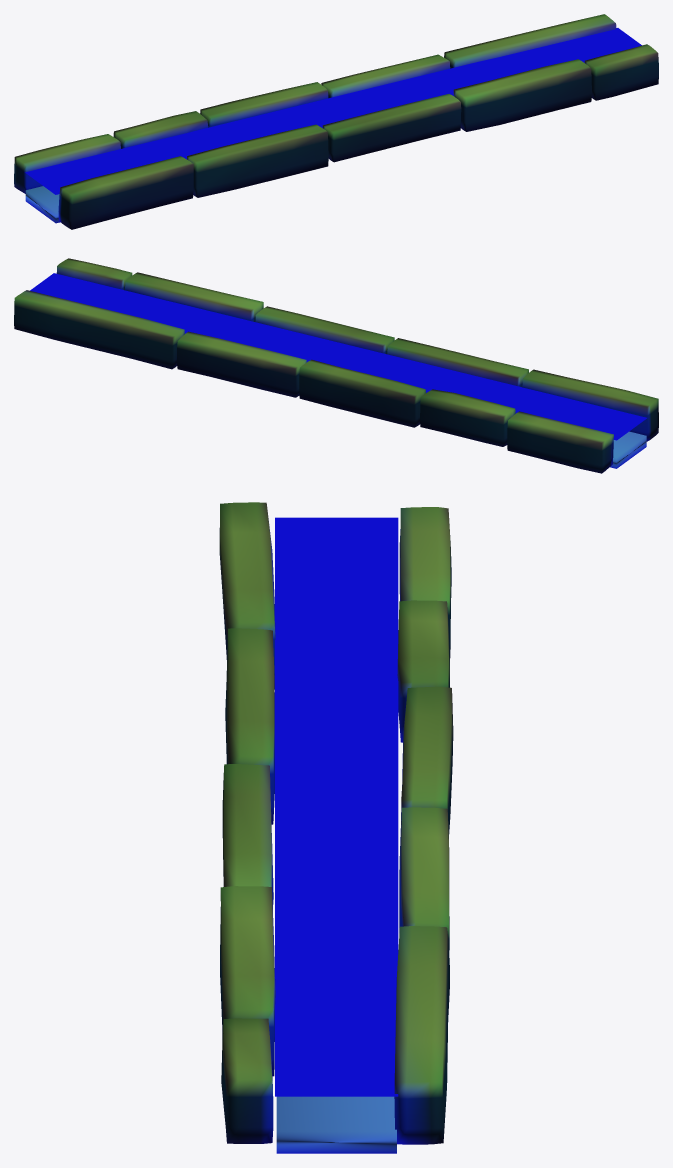
File: terrace_channel_4m.glb
3 views of the same model, one above another, from view 1: azimuth 30°, elevation 25°; view 2: azimuth 150°, elevation 25°; view 3: azimuth 270°, elevation 25° (orthographic). The views are drawn at different scales.
Visible parts, largest first — view 1: terrace_channel_4m; view 2: terrace_channel_4m; view 3: terrace_channel_4m.
Part boxes in pixels (x1,y1,x2,y2): terrace_channel_4m: (14,14,658,229); terrace_channel_4m: (14,258,658,473); terrace_channel_4m: (219,502,453,1153).
Size of what is drawn, in the model's own units: 4 by 0.2497 by 0.6824.
